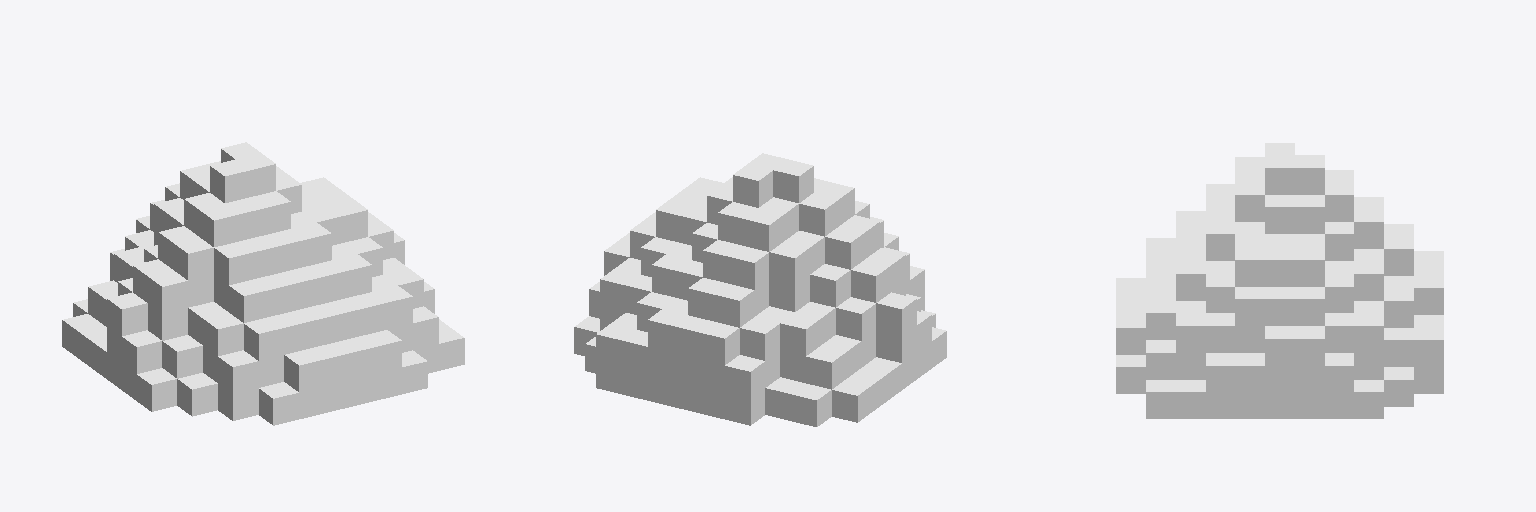
File: Rock_thrd.obj
The picture shows the model from 3 angles: view 1: azimuth 30°, elevation 25°; view 2: azimuth 150°, elevation 25°; view 3: azimuth 270°, elevation 25°; orthographic projection.
Visible parts, largest first — view 1: Rock_thrd; view 2: Rock_thrd; view 3: Rock_thrd.
Boxes of the visible parts, box(x1,y1,x2,y2) form: Rock_thrd: box(62, 142, 464, 425); Rock_thrd: box(574, 153, 946, 426); Rock_thrd: box(1116, 143, 1443, 418).
Size of the model in its own units: 11 by 7 by 11.